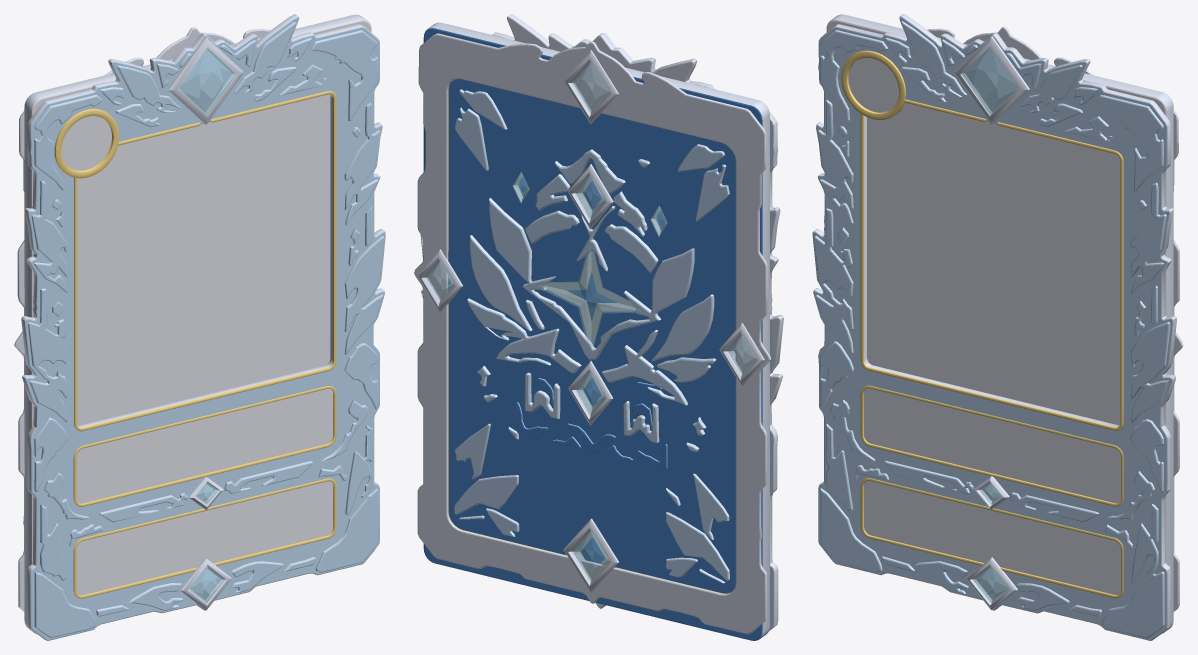
File: card-skin-diamond.glb
The picture shows the model from 3 angles, left to right: view 1: azimuth 30°, elevation 25°; view 2: azimuth 150°, elevation 25°; view 3: azimuth 330°, elevation 25°; orthographic projection.
Visible parts, largest first — view 1: slab.005, front-frame.001, front-crystal-shards, name-plate.005, stat-plate.005, rim-window.005, diamond-gems, back-frame.001, gem-bezels, rim-name.005, rim-stat.005, medal-disc.005 (+2 smaller); view 2: slab.005, back-frame.001, back-emblem-crystals, back-corner-crystals, diamond-gems, gem-bezels, front-frame.001, gem-foils.001, back-emblem-ribbons.001, back-gold-rim.001; view 3: slab.005, front-frame.001, front-crystal-shards, name-plate.005, stat-plate.005, rim-window.005, back-frame.001, diamond-gems, gem-bezels, rim-name.005, rim-stat.005, medal-disc.005 (+2 smaller).
Part boxes in pixels (box(x1,y1,x2,y2)): slab.005: box(24, 14, 371, 634); front-frame.001: box(21, 14, 385, 640); front-crystal-shards: box(28, 21, 384, 637); name-plate.005: box(76, 388, 333, 503); stat-plate.005: box(76, 481, 333, 595); rim-window.005: box(74, 91, 336, 431); diamond-gems: box(178, 48, 235, 602); back-frame.001: box(14, 27, 270, 611); gem-bezels: box(167, 36, 243, 610); rim-name.005: box(73, 386, 336, 506); rim-stat.005: box(73, 478, 336, 598); medal-disc.005: box(61, 116, 111, 170); slab.005: box(423, 22, 769, 640); back-frame.001: box(414, 33, 770, 634); back-emblem-crystals: box(467, 149, 715, 452); back-corner-crystals: box(454, 89, 729, 583); diamond-gems: box(426, 62, 754, 581); gem-bezels: box(417, 33, 764, 592); front-frame.001: box(420, 14, 783, 631); gem-foils.001: box(427, 62, 755, 580); back-emblem-ribbons.001: box(516, 378, 667, 469); back-gold-rim.001: box(448, 81, 728, 593); slab.005: box(826, 14, 1173, 633); front-frame.001: box(812, 14, 1176, 640); front-crystal-shards: box(814, 21, 1170, 638); name-plate.005: box(864, 388, 1120, 503); stat-plate.005: box(864, 481, 1120, 595); rim-window.005: box(860, 99, 1123, 430); back-frame.001: box(927, 26, 1183, 611); diamond-gems: box(961, 48, 1018, 602); gem-bezels: box(953, 36, 1029, 609); rim-name.005: box(860, 385, 1123, 506); rim-stat.005: box(860, 478, 1123, 598); medal-disc.005: box(848, 58, 898, 112).
Size of the model in its own units: 0.9744 by 1.48 by 0.1187.
